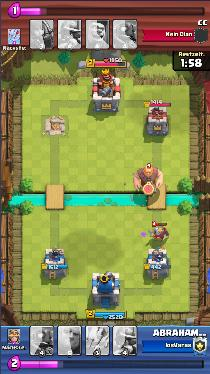enemy_giant: (135, 166, 163, 192)
enemy_knight: (151, 227, 170, 241)
